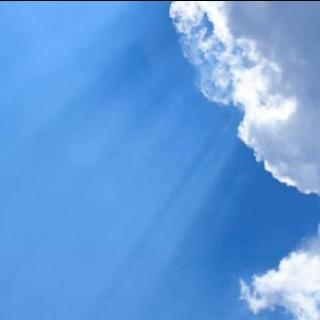Altocumulus: (166, 0, 320, 320)
